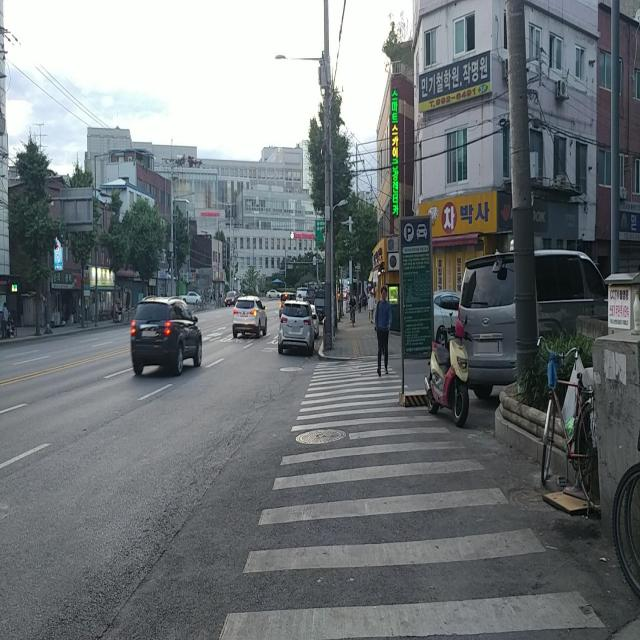횡단보도: (215, 360, 606, 640)
